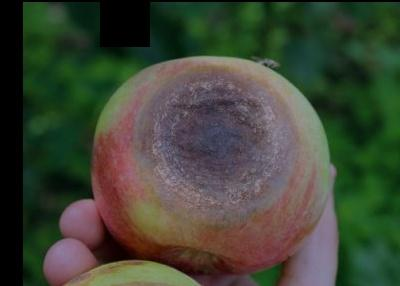rotten apple: (80, 45, 333, 276)
